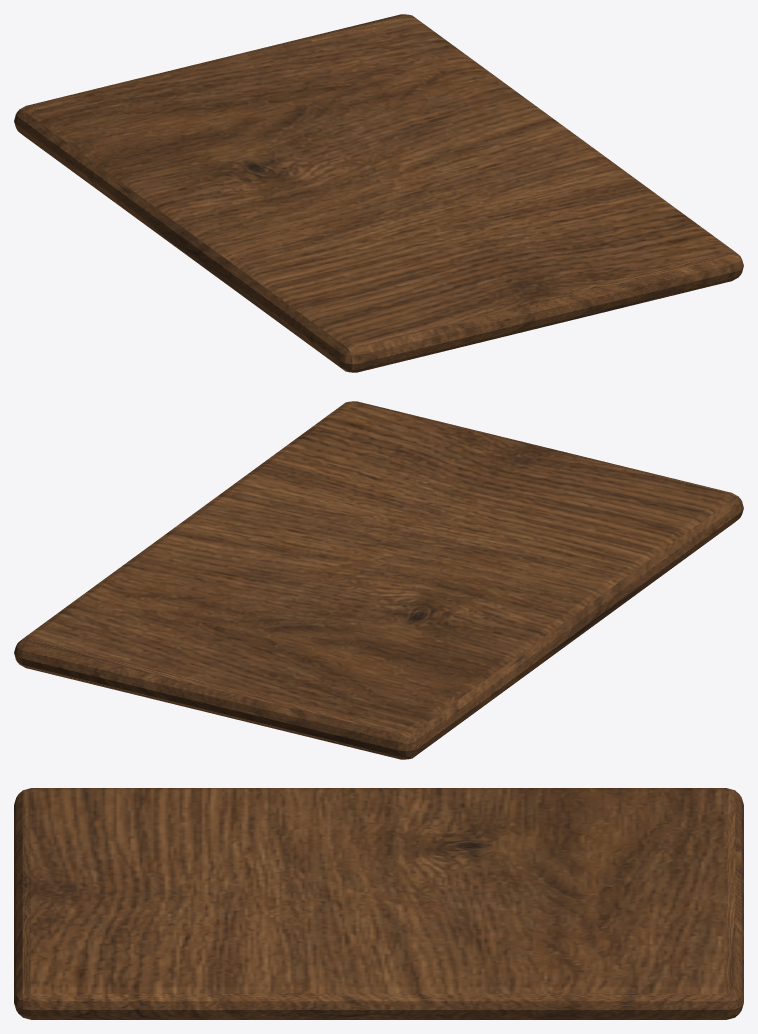
The model's file is CuttingBoard.fbx.
3 views of the same model, one above another, from view 1: azimuth 30°, elevation 25°; view 2: azimuth 150°, elevation 25°; view 3: azimuth 270°, elevation 25° (orthographic). The views are drawn at different scales.
Parts seen in each view (by area): view 1: CuttingBoard; view 2: CuttingBoard; view 3: CuttingBoard.
Part boxes in pixels (left/top/right/bottom): CuttingBoard: left=14, top=14, right=743, bottom=372; CuttingBoard: left=14, top=401, right=743, bottom=759; CuttingBoard: left=14, top=788, right=743, bottom=1019.
Size of the model in its own units: 22 by 1.5 by 32.
Materials: 1 (1 with a texture image).
